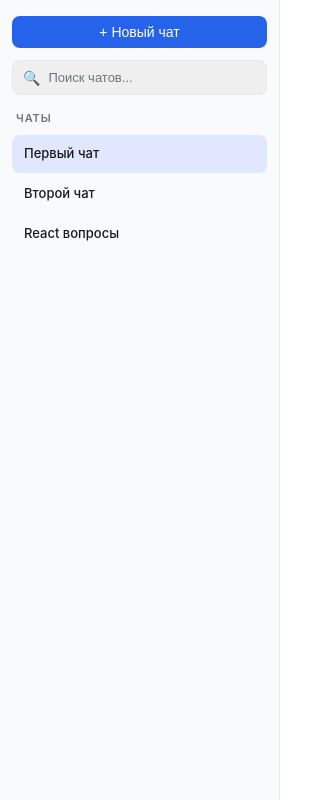
Scenario: Sidebar › фильтрация чатов › при очистке поля поиска снова показываются все чаты
The image size is (320, 800).
In the field with placeholder "Поиск чатов...": (152, 78) left=48, top=70, right=256, bottom=85, type "React"
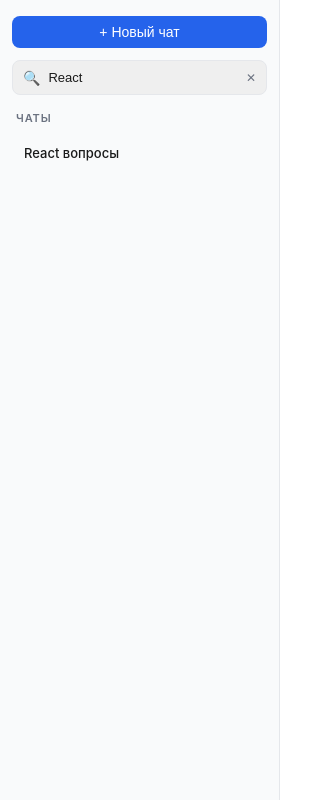
Clear the field with placeholder "Поиск чатов...": (143, 78) left=48, top=70, right=238, bottom=85
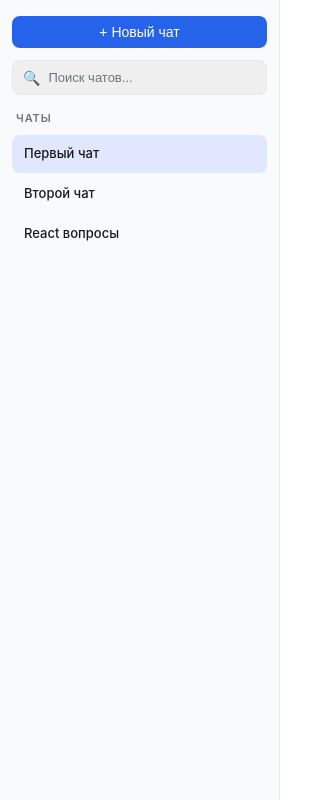
expect the text "React вопросы" is shown: met, box left=24, top=225, right=119, bottom=241
expect the text "Первый чат" is shown: met, box left=24, top=145, right=99, bottom=161
expect the text "Второй чат" is shown: met, box left=24, top=185, right=95, bottom=201
